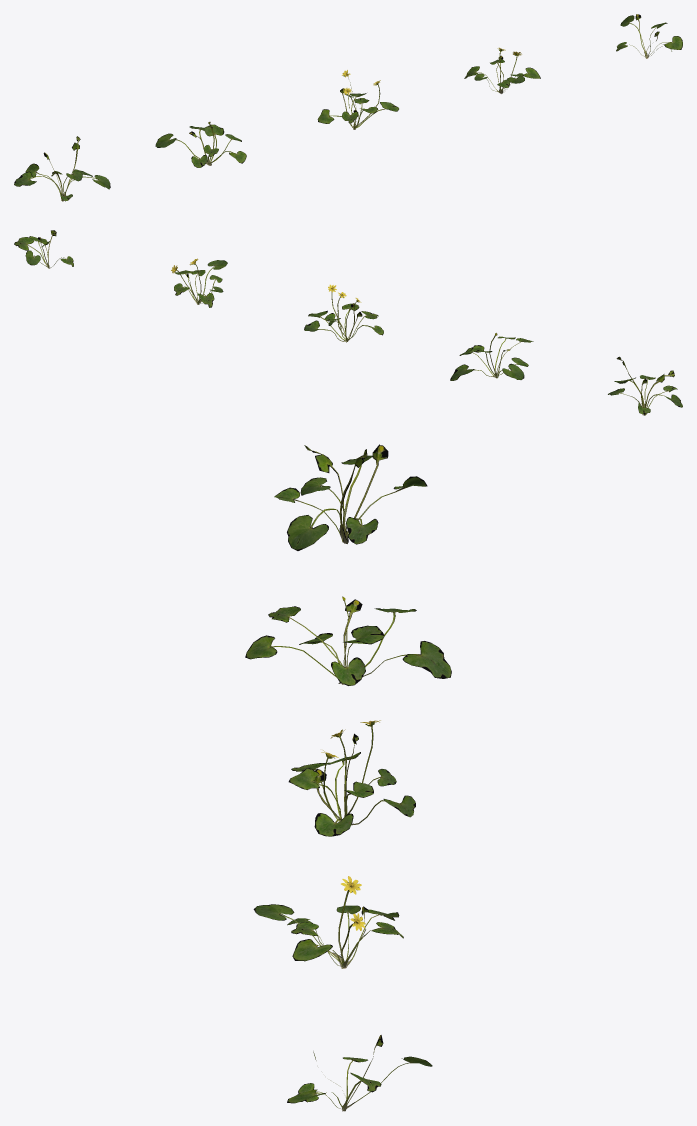
File: celandine_01.glb
3 renders of one model, top to bottom at view 1: azimuth 30°, elevation 25°; view 2: azimuth 150°, elevation 25°; view 3: azimuth 270°, elevation 25°, orthographic. The views are drawn at different scales.
Visible parts, largest first — view 1: celandine_01_b_LOD0, celandine_01_a_LOD0, celandine_01_c_LOD0, celandine_01_d_LOD0, celandine_01_e_LOD0; view 2: celandine_01_c_LOD0, celandine_01_b_LOD0, celandine_01_d_LOD0, celandine_01_a_LOD0, celandine_01_e_LOD0; view 3: celandine_01_b_LOD0, celandine_01_a_LOD0, celandine_01_c_LOD0, celandine_01_d_LOD0, celandine_01_e_LOD0.
Boxes of the visible parts, x1,y1,x2,y2 form: celandine_01_b_LOD0: [155, 122, 246, 167]; celandine_01_a_LOD0: [14, 136, 110, 201]; celandine_01_c_LOD0: [317, 70, 398, 129]; celandine_01_d_LOD0: [464, 47, 540, 93]; celandine_01_e_LOD0: [616, 14, 682, 58]; celandine_01_c_LOD0: [304, 284, 383, 342]; celandine_01_b_LOD0: [450, 333, 533, 380]; celandine_01_d_LOD0: [171, 258, 227, 307]; celandine_01_a_LOD0: [608, 356, 682, 415]; celandine_01_e_LOD0: [14, 230, 73, 268]; celandine_01_b_LOD0: [245, 596, 451, 685]; celandine_01_a_LOD0: [274, 444, 427, 550]; celandine_01_c_LOD0: [288, 720, 415, 836]; celandine_01_d_LOD0: [253, 876, 403, 968]; celandine_01_e_LOD0: [287, 1035, 432, 1111].
Bounding box in the file's own units: 2.24 × 0.1859 × 0.3067.
Materials: 1 (1 with a texture image).
